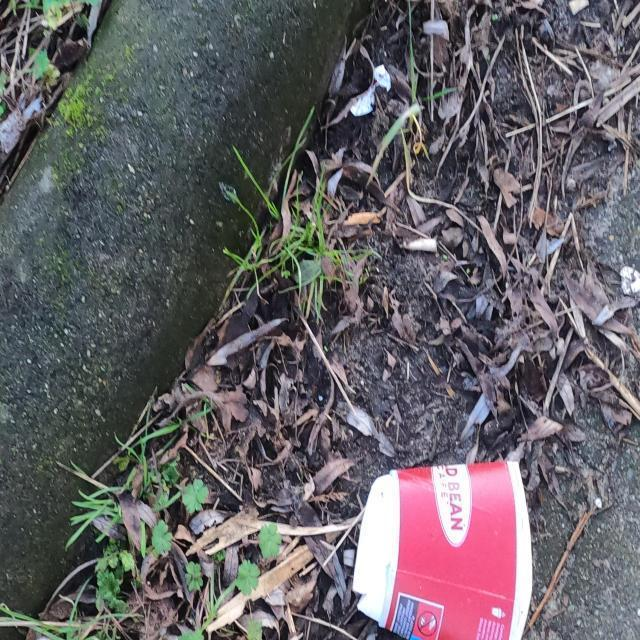Cup: (351, 454, 540, 640)
